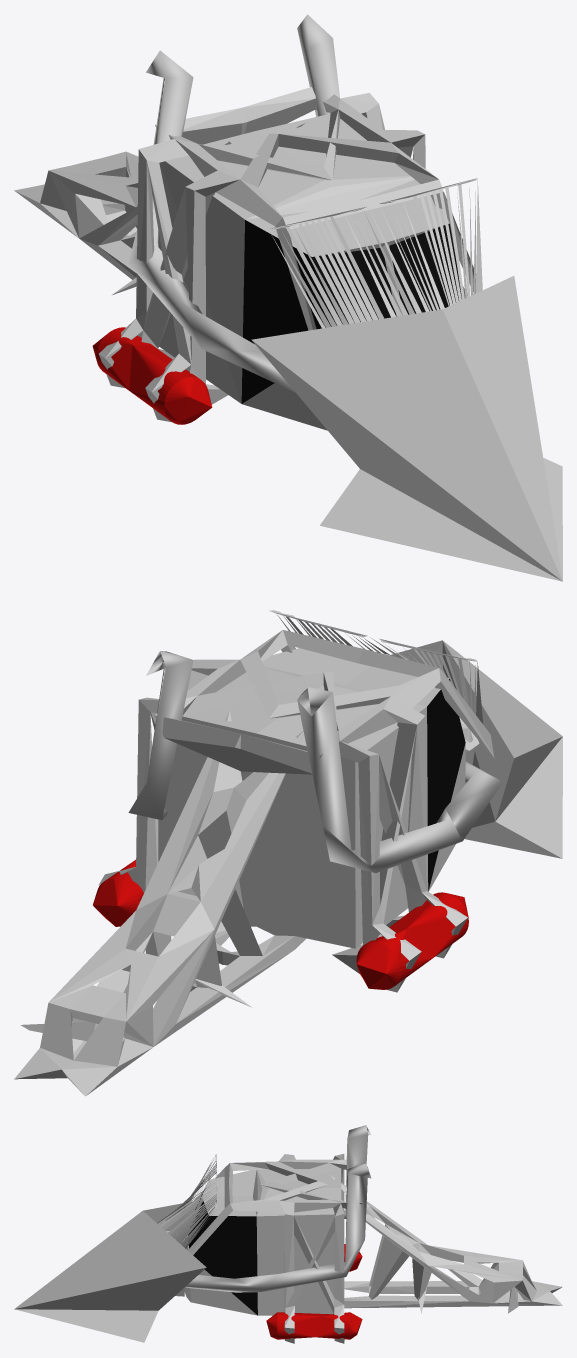
File: empaler_truck_body.obj
3 views of the same model, one above another, from view 1: azimuth 30°, elevation 25°; view 2: azimuth 150°, elevation 25°; view 3: azimuth 270°, elevation 25° (orthographic). The views are drawn at different scales.
Parts seen in each view (by area): view 1: Cube; view 2: Cube; view 3: Cube.
Part boxes in pixels (left/top/right/bottom): Cube: left=14, top=14, right=562, bottom=581; Cube: left=14, top=610, right=562, bottom=1096; Cube: left=14, top=1125, right=562, bottom=1343.
Bounding box in the file's own units: 3.75 × 3.62 × 10.51.
